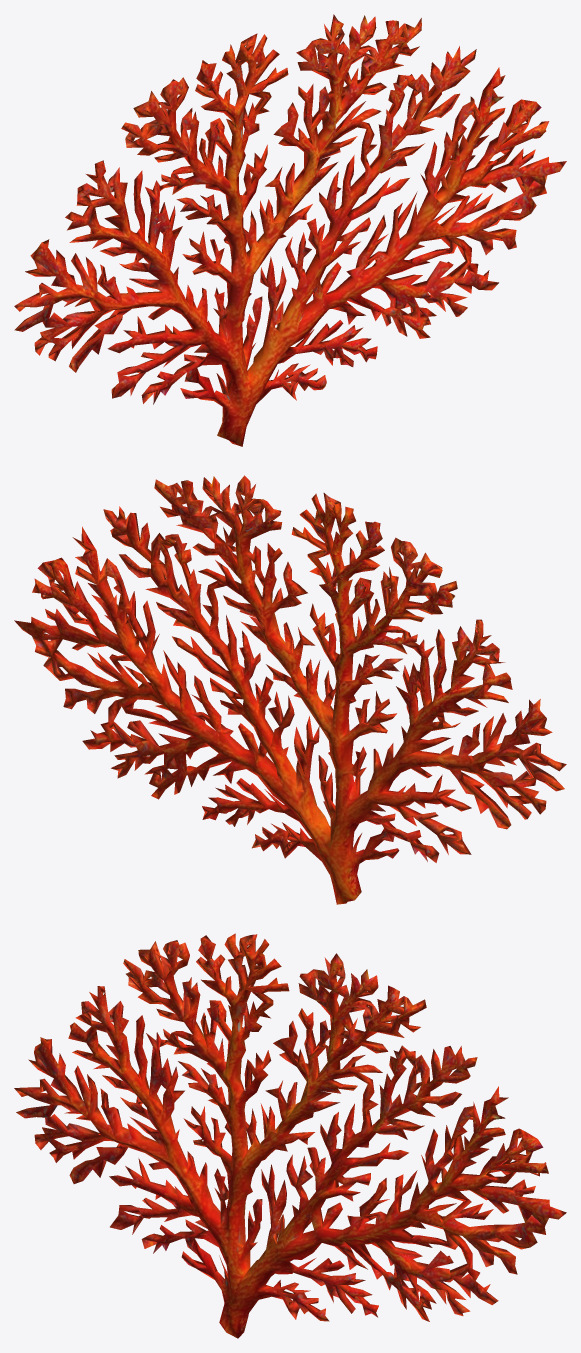
File: SeaFan.obj
The picture shows the model from 3 angles, top to bottom: view 1: azimuth 30°, elevation 25°; view 2: azimuth 150°, elevation 25°; view 3: azimuth 330°, elevation 25°; orthographic projection.
Bounding box in the file's own units: 1 × 0.7041 × 0.0457.
Materials: 1 (1 with a texture image).
